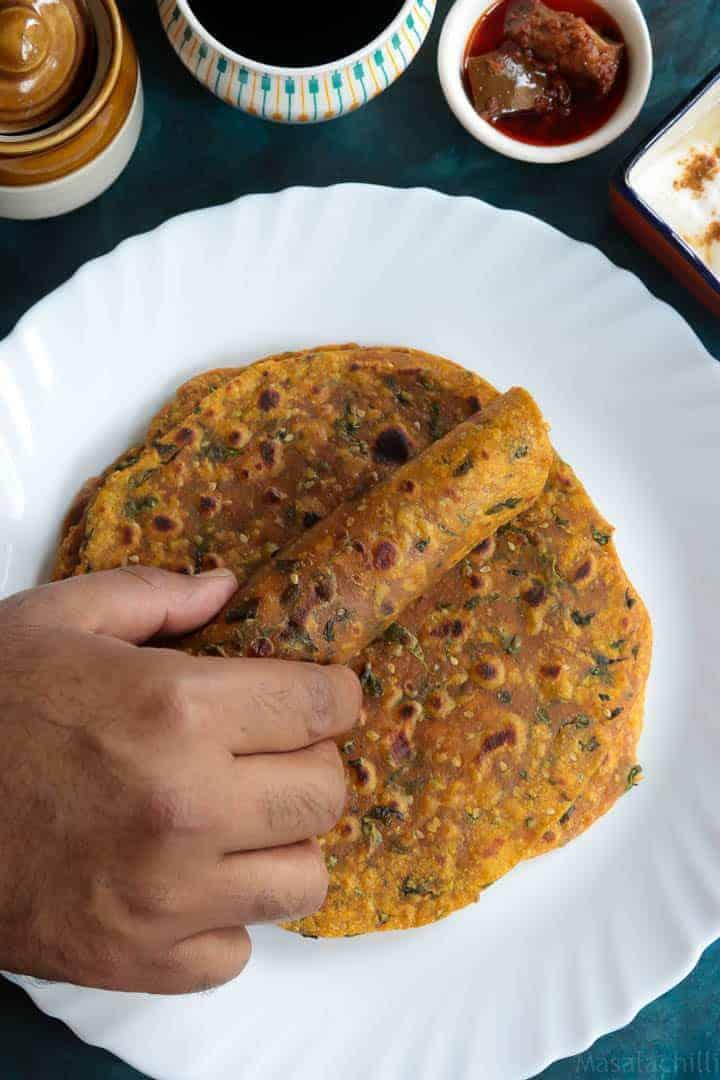thepla: (138, 354, 620, 854)
